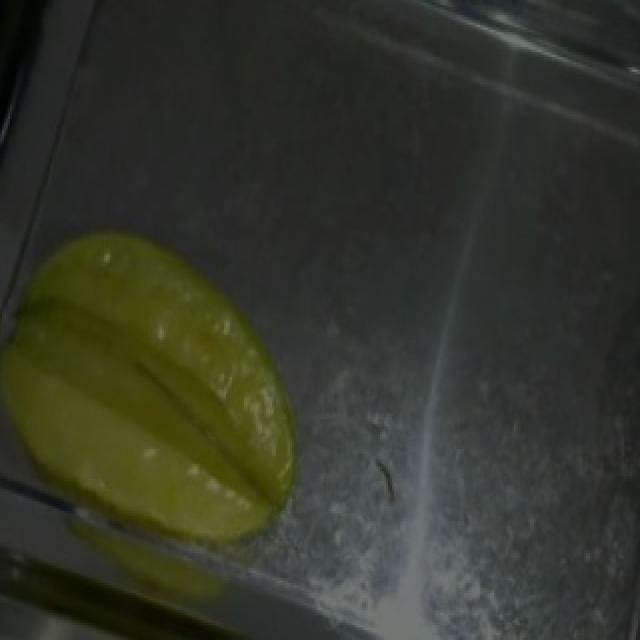fruit: (6, 198, 364, 596)
